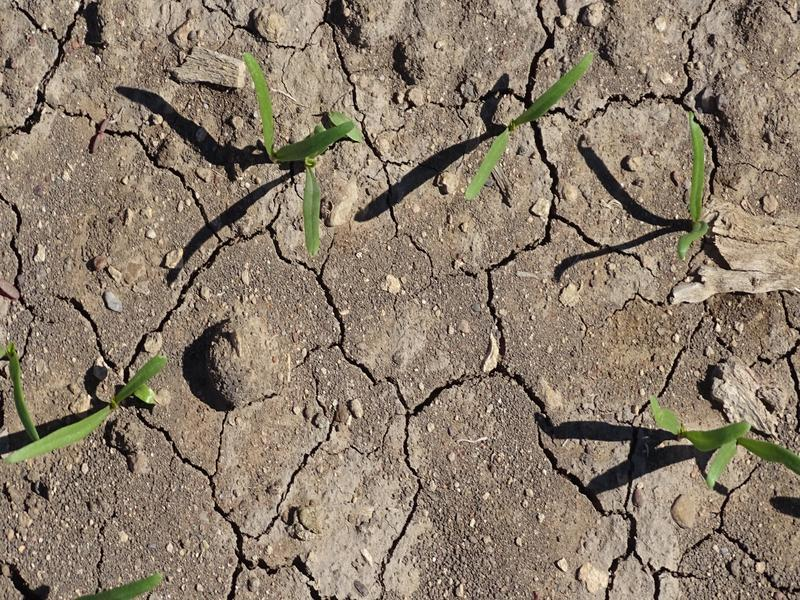Espinaca: (240, 49, 355, 248), (461, 53, 595, 201), (7, 356, 179, 466), (636, 396, 797, 489), (674, 116, 712, 254), (82, 569, 173, 600)
